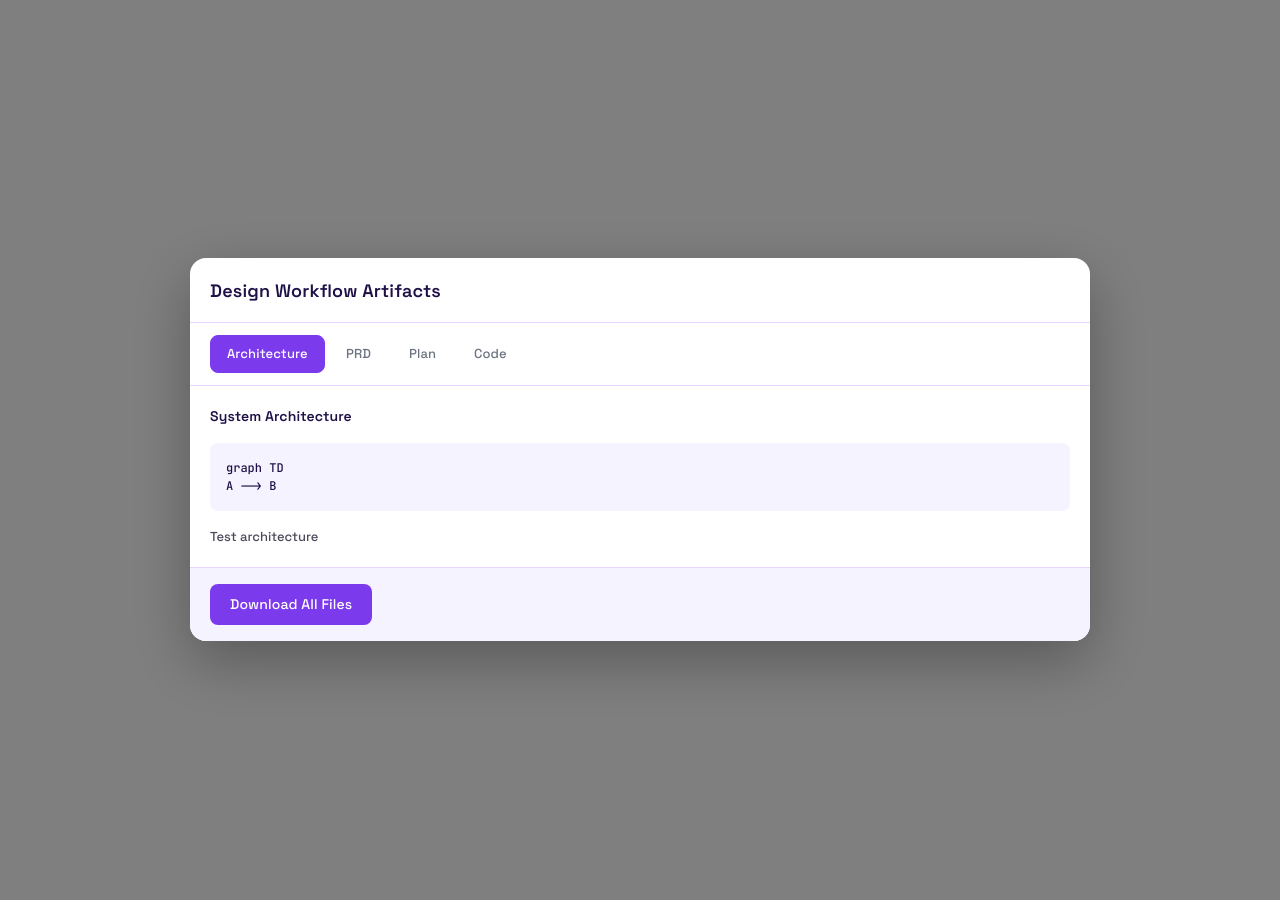
Scenario: ArtifactViewer › should show code content when Code tab selected
Click the button "Code" at (490, 354), box [457,335,524,373]
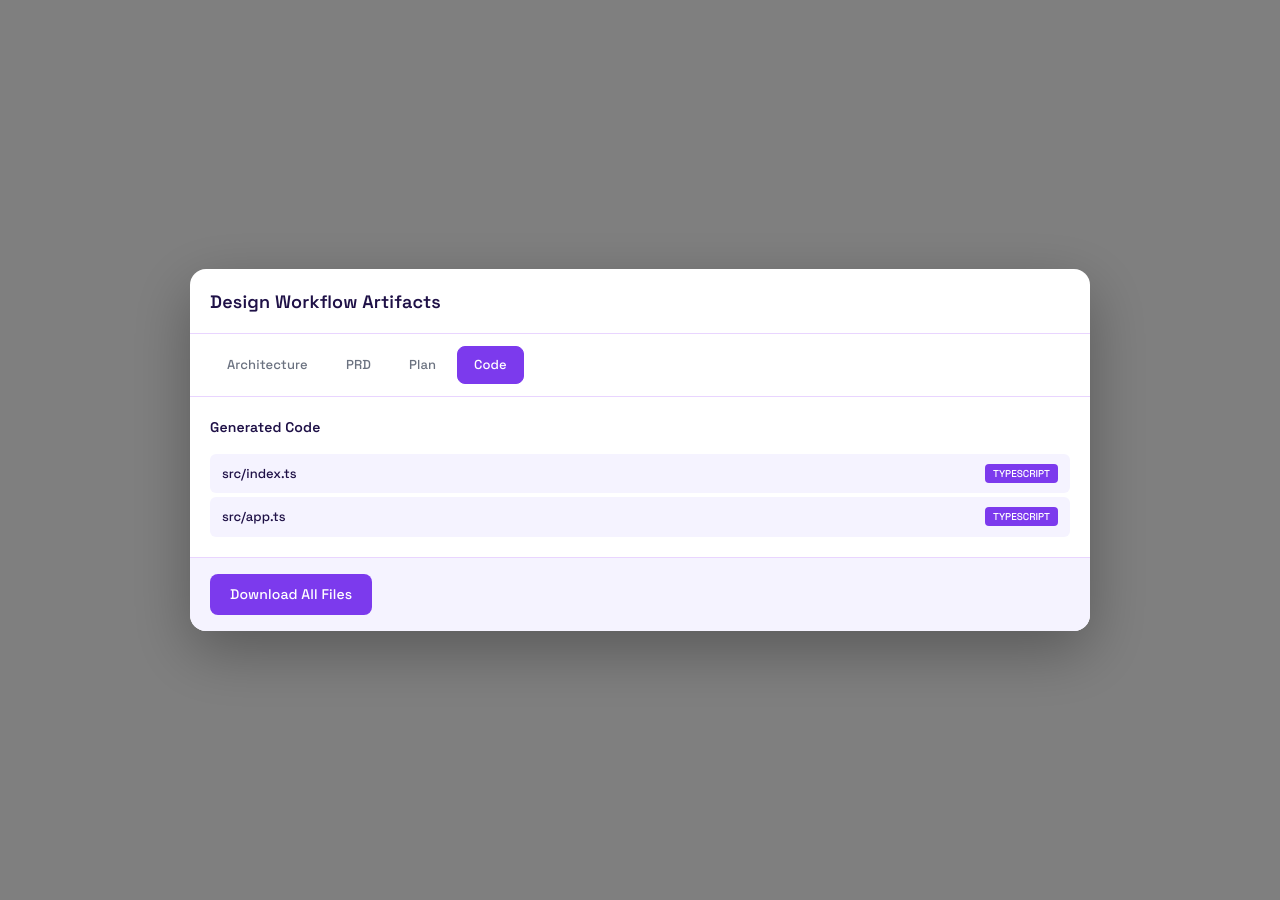
expect the heading "Generated Code" is shown: met, box [210,418,320,436]
